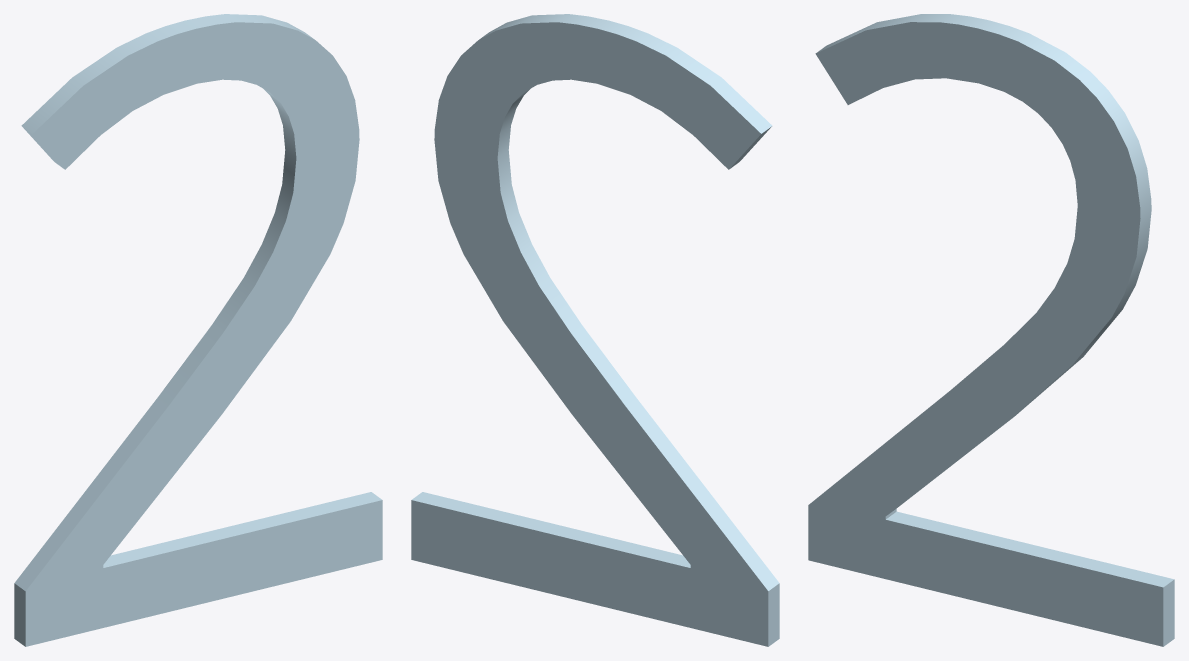
The picture shows the model from 3 angles, left to right: view 1: azimuth 30°, elevation 25°; view 2: azimuth 150°, elevation 25°; view 3: azimuth 330°, elevation 25°; orthographic projection.
Parts seen in each view (by area): view 1: 2; view 2: 2; view 3: 2.
Part boxes in pixels (x1,y1,x2,y2): 2: (14, 14, 382, 646); 2: (411, 14, 779, 646); 2: (808, 14, 1174, 646).
Size of the model in its own units: 0.0369 by 0.0569 by 0.002.
